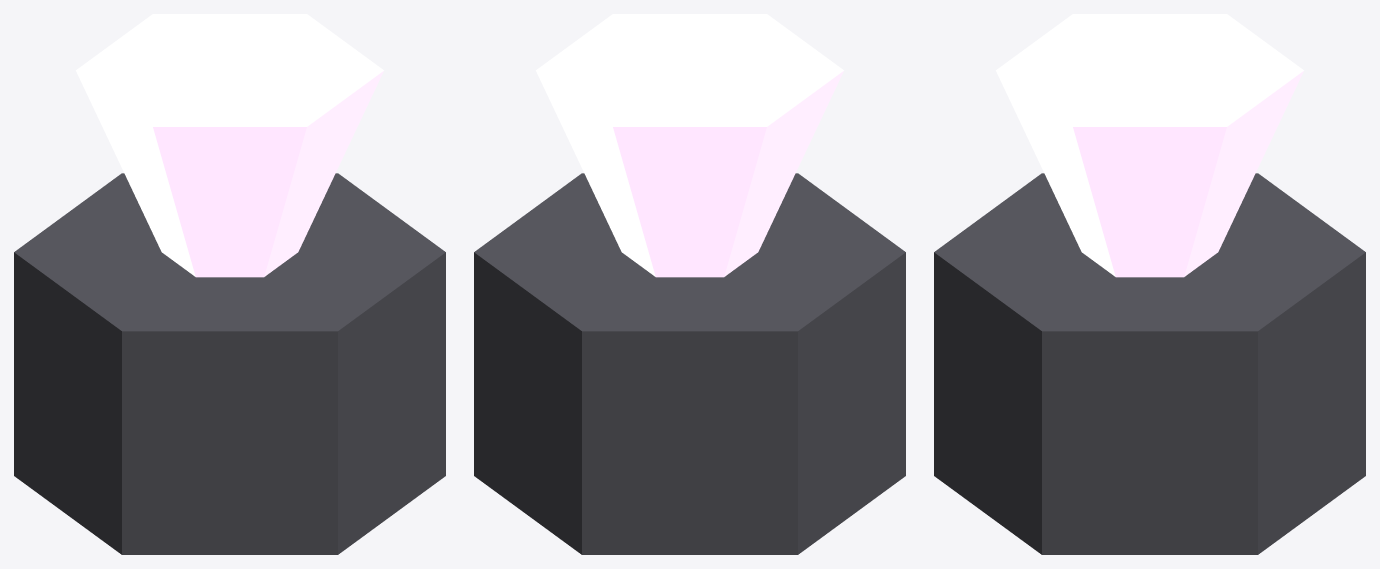
The model's file is tower_debuff_lod1.glb.
The picture shows the model from 3 angles, left to right: view 1: azimuth 30°, elevation 25°; view 2: azimuth 150°, elevation 25°; view 3: azimuth 270°, elevation 25°; orthographic projection.
Parts seen in each view (by area): view 1: tower_debuff_lod1; view 2: tower_debuff_lod1; view 3: tower_debuff_lod1.
Boxes of the visible parts, bbox=[...] form: tower_debuff_lod1: bbox=[14, 14, 445, 554]; tower_debuff_lod1: bbox=[474, 14, 905, 554]; tower_debuff_lod1: bbox=[934, 14, 1365, 554].
Bounding box in the file's own units: 0.6062 × 0.725 × 0.7.
